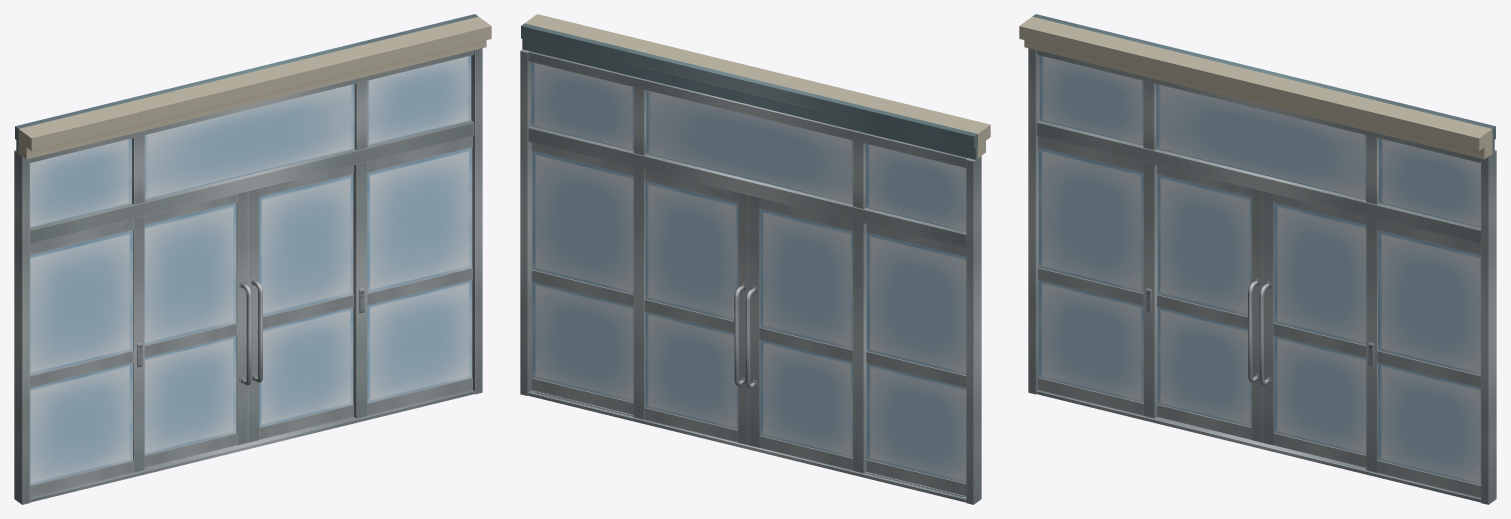
Rendered from set_entrance_door_b.fbx.
3 views of the same model, side by side, from view 1: azimuth 30°, elevation 25°; view 2: azimuth 150°, elevation 25°; view 3: azimuth 330°, elevation 25° (orthographic).
Visible parts, largest first — view 1: door_b_window_glass, door_b_window, door_b_glass_02, door_b_glass_01, door_b_wall, door_b_01, door_b_02; view 2: door_b_window_glass, door_b_window, door_b_glass_01, door_b_glass_02, door_b_wall, door_b_01, door_b_02; view 3: door_b_window_glass, door_b_window, door_b_glass_01, door_b_glass_02, door_b_wall, door_b_02, door_b_01.
Part boxes in pixels (x1,y1,x2,y2): door_b_window_glass: [30, 55, 472, 485]; door_b_window: [14, 48, 482, 504]; door_b_glass_02: [259, 174, 353, 427]; door_b_glass_01: [144, 203, 236, 454]; door_b_wall: [15, 14, 491, 159]; door_b_01: [144, 191, 251, 467]; door_b_02: [248, 165, 354, 442]; door_b_window_glass: [531, 62, 966, 483]; door_b_window: [520, 49, 981, 504]; door_b_glass_01: [760, 209, 852, 457]; door_b_glass_02: [645, 181, 737, 429]; door_b_wall: [521, 14, 990, 159]; door_b_01: [745, 195, 865, 473]; door_b_02: [633, 167, 748, 445]; door_b_window_glass: [1038, 55, 1480, 485]; door_b_window: [1028, 48, 1496, 504]; door_b_glass_01: [1157, 174, 1251, 427]; door_b_glass_02: [1274, 203, 1366, 454]; door_b_wall: [1019, 14, 1495, 159]; door_b_02: [1259, 191, 1366, 467]; door_b_01: [1156, 165, 1262, 442].
Bounding box in the file's own units: 400 × 310 × 34.84.
